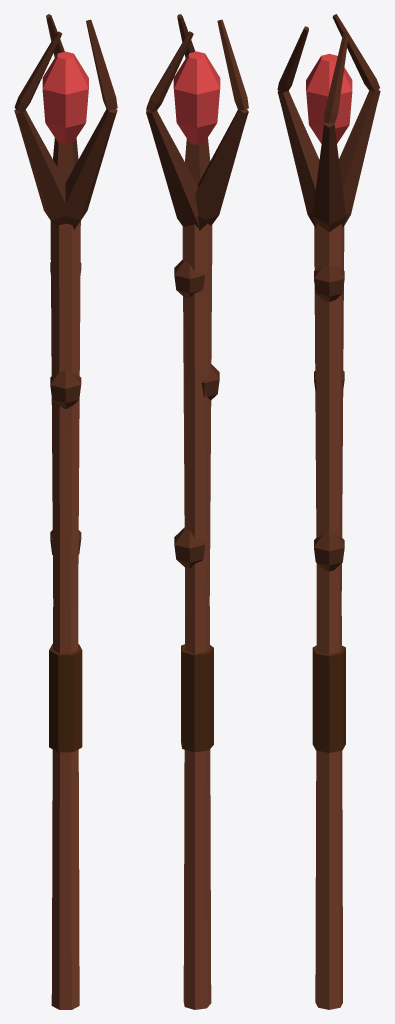
The model's file is wpn_staff_4.glb.
3 views of the same model, side by side, from view 1: azimuth 90°, elevation 25°; view 2: azimuth 210°, elevation 25°; view 3: azimuth 270°, elevation 25° (orthographic).
Parts seen in each view (by area): view 1: wpn_staff_4; view 2: wpn_staff_4; view 3: wpn_staff_4.
Part boxes in pixels (x1,y1,x2,y2): wpn_staff_4: [14, 14, 117, 1009]; wpn_staff_4: [146, 14, 248, 1009]; wpn_staff_4: [277, 14, 380, 1009].
Size of the model in its own units: 0.1534 by 1.82 by 0.1738.
